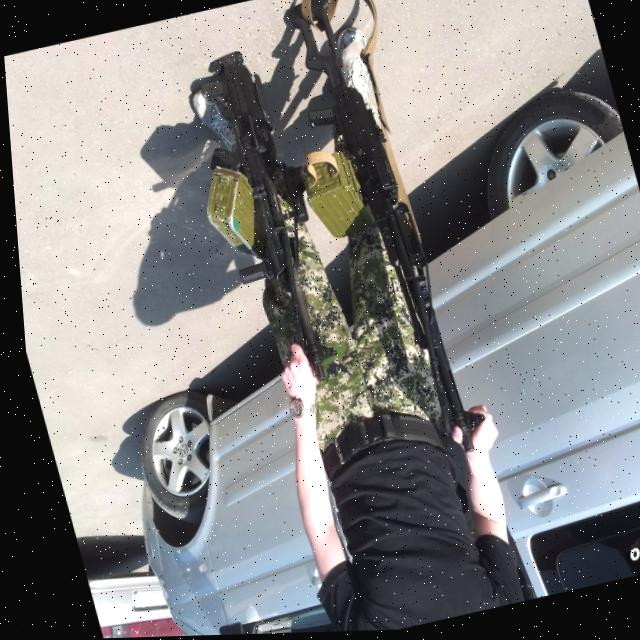firearm: (253, 0, 488, 478), (179, 42, 354, 397)
